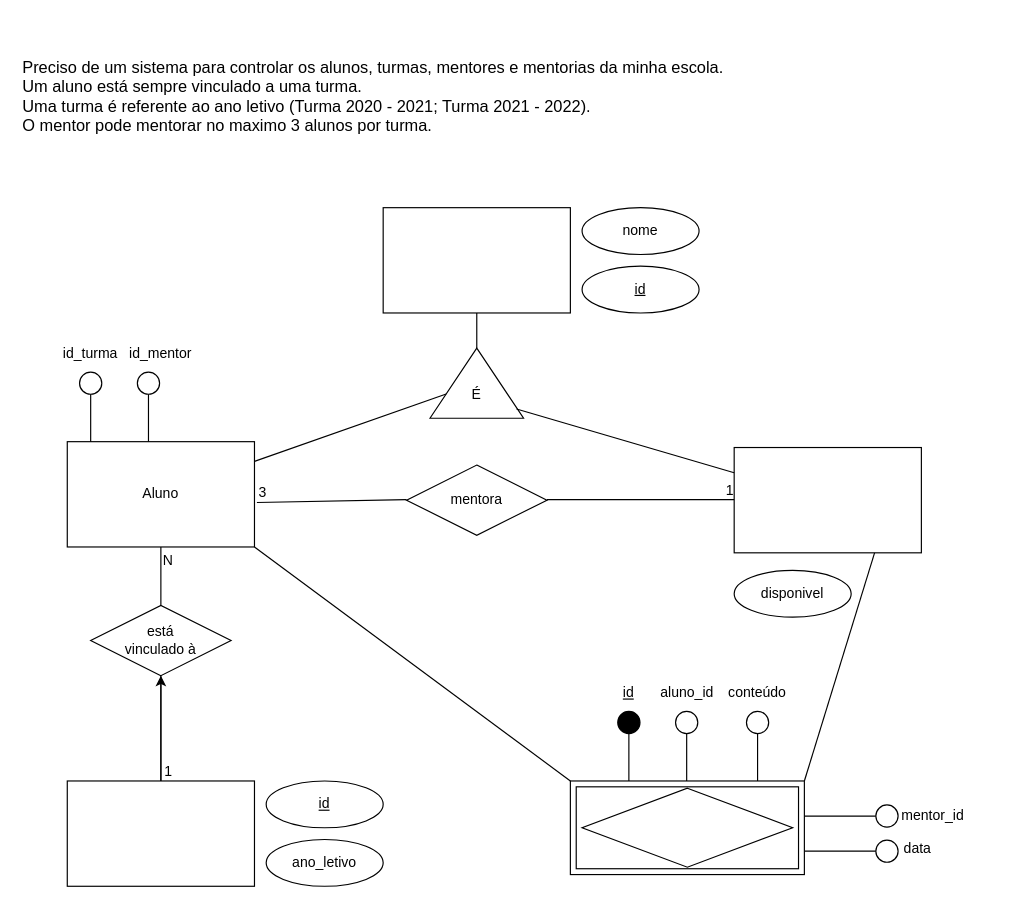
Image size: 1034x907. Some labels were removed from this diagram. The shapes that lost their labels are listed below. From the top down, each one's box as (x1, y1, x2, y2) in pixels, then its label:
(382, 207, 570, 313): Pessoa
(733, 446, 921, 553): Mentor
(66, 780, 254, 886): Turma
(569, 780, 804, 875): Mentoria
